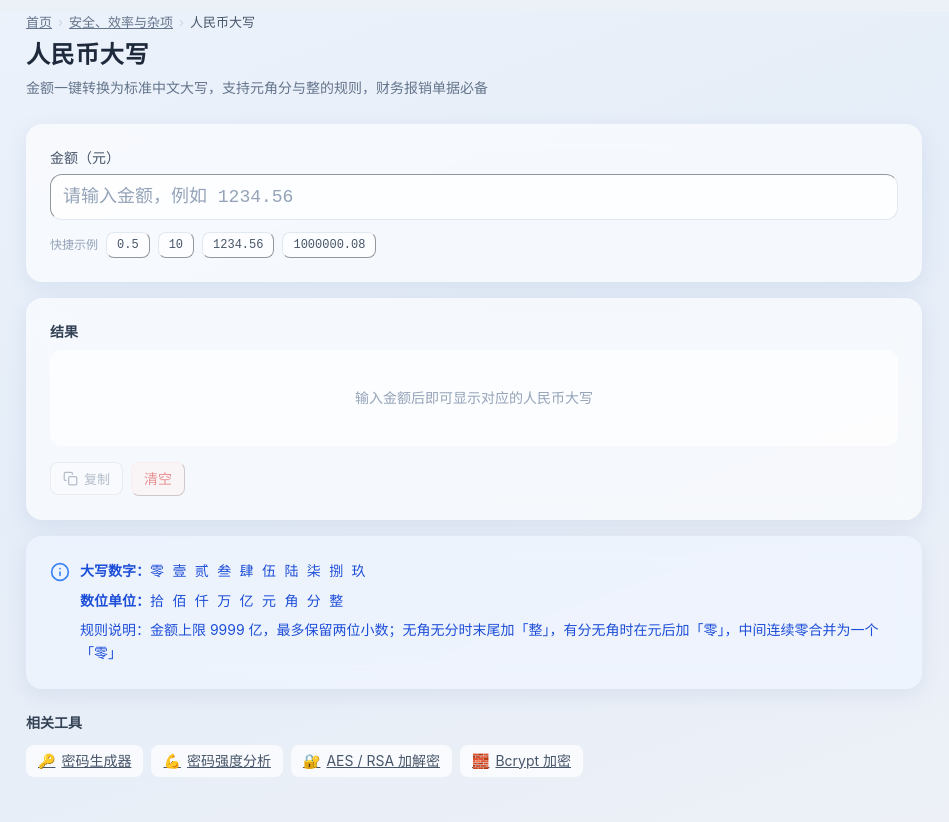
Test case: RmbUppercase 组件测试 › 第三位小数显示截断提示
Type "1.234" into the field labelled "金额（元）".
click(474, 197); type("1.234")  # box [50,174,898,220]
Wait 300 ms
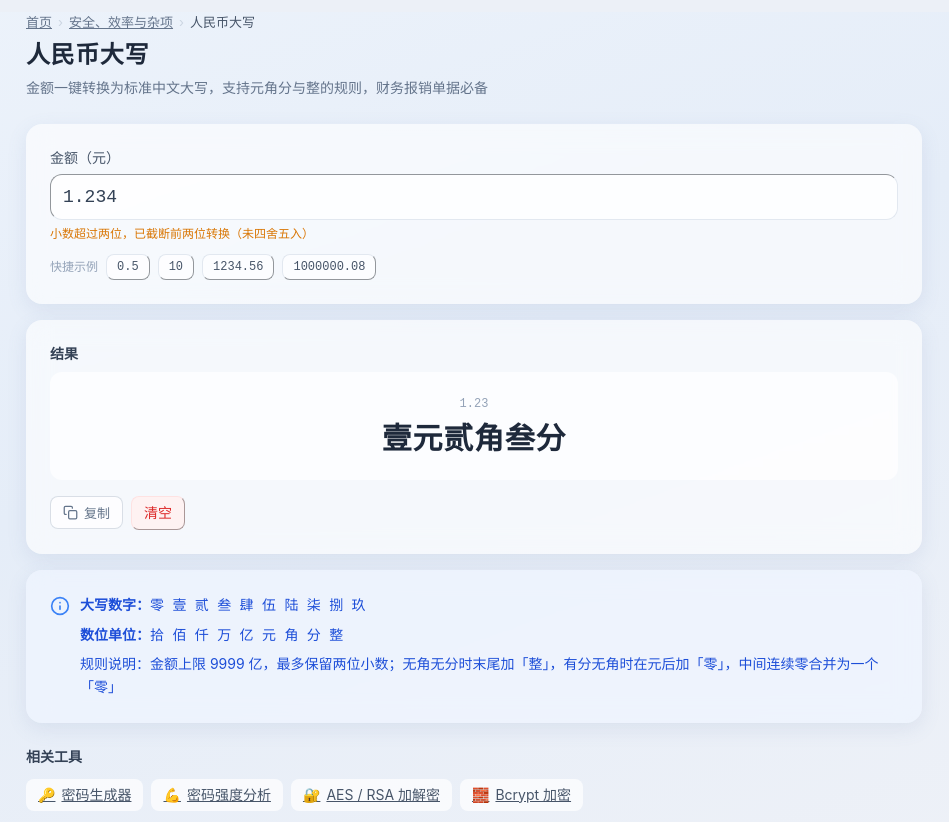
Result: the text "壹元贰角叁分" is shown at [382,420,566,456]
Result: the text "小数超过两位，已截断前两位转换（未四舍五入）" is shown at [50,226,314,241]
